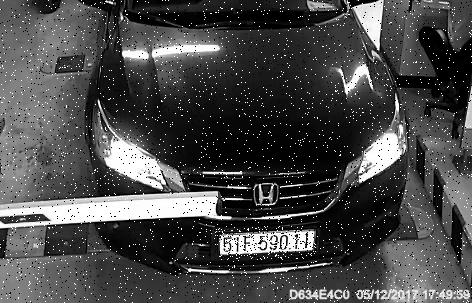License-plate: (216, 228, 318, 261)
